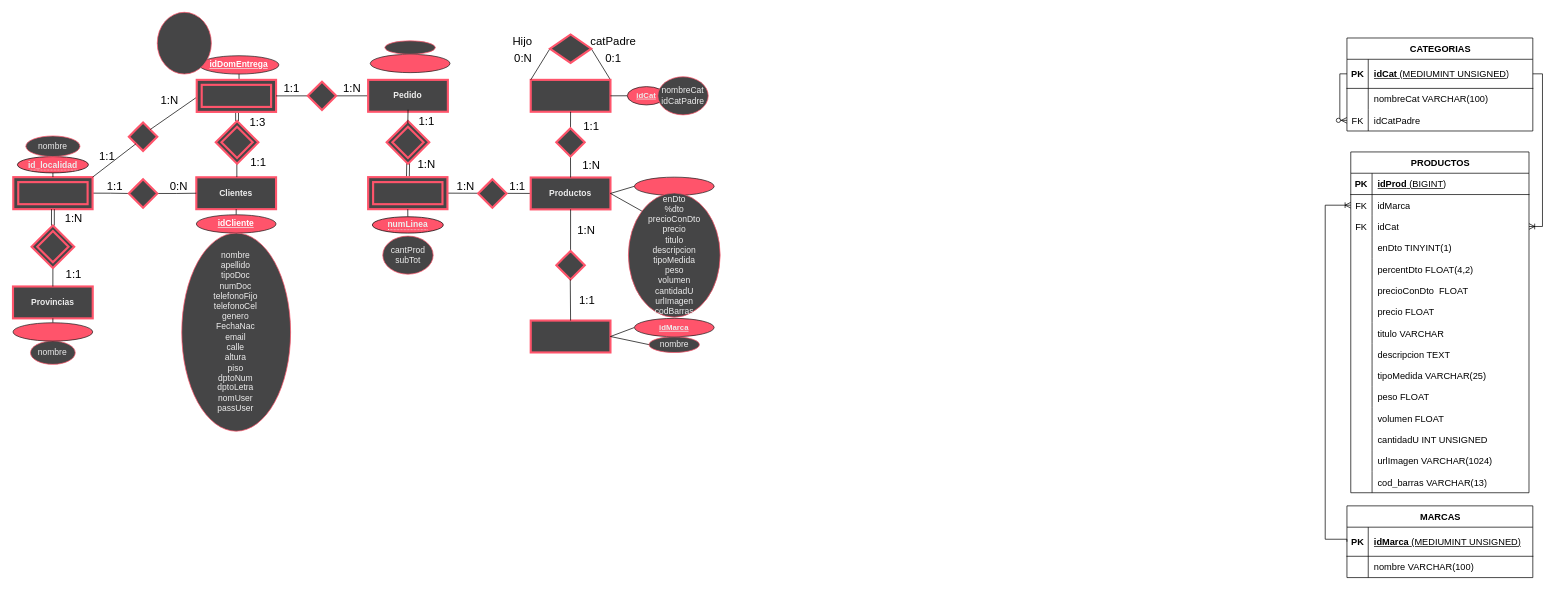
This 1561x591 diagram has some shape labels left out. The centre of each missing label's shape, as x and y in pixels:
calle altura piso numDto letraDto: [184,43]
Categoría: [570,95]
Domicilio de entrega: [236,95]
idPedido: [410,63]
idProd: [674,185]
idProvincia: [52,331]
Localidades: [52,193]
Línea de pedido: [407,193]
Marca: [570,336]
total: [409,47]
